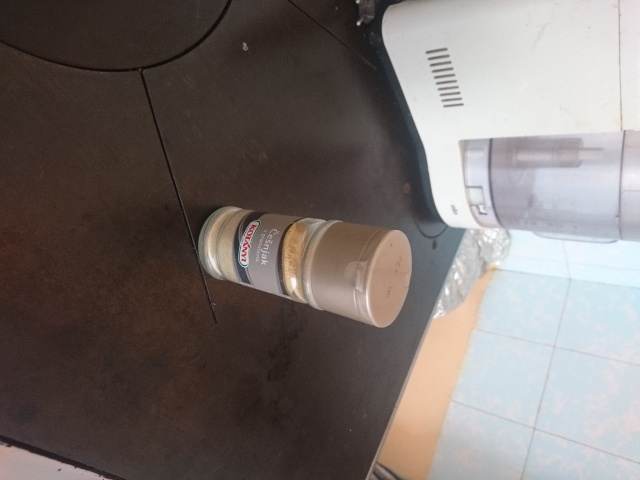Kotanyi Garlic Granules 70g: (194, 203, 416, 332)
